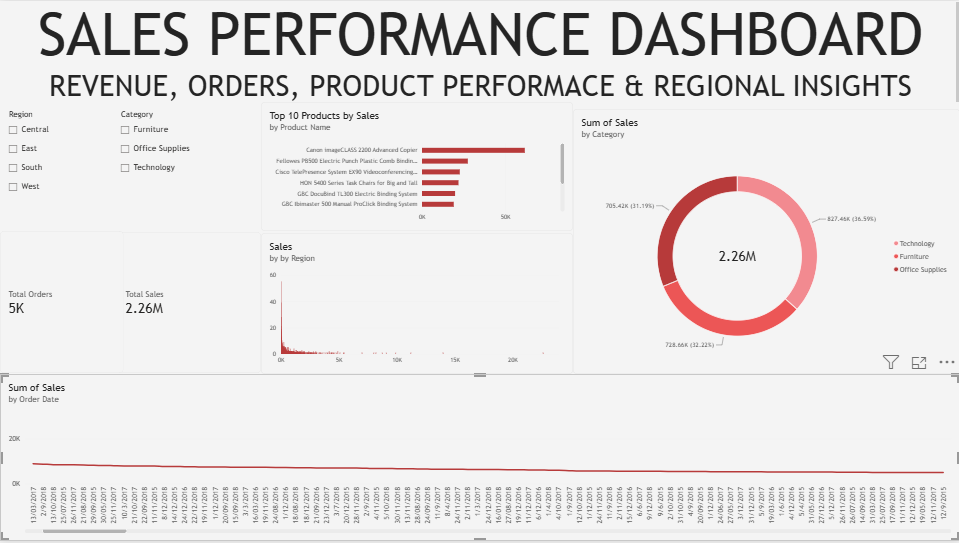

The page's visual inventory and layout, read from the dashboard file:
{"tool":"powerbi","page":{"name":"Page 1","canvas":[1920,1080],"ordinal":0},"visuals":[{"type":"cardVisual","fields":{"Data":["Sum(train.Sales)"]},"box":[233.3,462.7,288.2,282.4],"z":0},{"type":"donutChart","fields":{"Category":["train.Category"],"Y":["Sum(train.Sales)"]},"box":[1146,216,774,530],"z":1000},{"type":"lineChart","fields":{"Category":["train.Order Date"],"Y":["Sum(train.Sales)"]},"box":[0,745.1,1919.6,335.3],"z":2000},{"type":"slicer","fields":{"Values":["train.Region"]},"box":[9.8,215.7,237.3,245.1],"z":3000},{"type":"slicer","fields":{"Values":["train.Category"]},"box":[233.3,215.7,288.2,245.1],"z":4000},{"type":"cardVisual","fields":{"Data":["train.Total Orders"]},"box":[0,460.8,247.1,284.3],"z":5000},{"type":"clusteredBarChart","fields":{"Category":["train.Product Name"],"Y":["Sum(train.Sales)"]},"box":[522,202,624,258],"z":6000},{"type":"textbox","box":[9.8,0,1909.8,202],"z":6001},{"type":"columnChart","fields":{"Category":["train.Sales"],"Y":["CountNonNull(train.Region)"]},"box":[522,463,624,282],"z":6002}]}

Visuals, with their boxes in screenshot pixels (x1, y1, x2, y2), scaled from the page's 1920x1080 canvas onto the 959x543 screenshot:
cardVisual - Sum(train.Sales): rect(117, 233, 260, 375)
donutChart - train.Category x Sum(train.Sales): rect(572, 109, 958, 375)
lineChart - train.Order Date x Sum(train.Sales): rect(0, 375, 958, 542)
slicer - train.Region: rect(5, 108, 123, 232)
slicer - train.Category: rect(117, 108, 260, 232)
cardVisual - train.Total Orders: rect(0, 232, 123, 375)
clusteredBarChart - train.Product Name x Sum(train.Sales): rect(261, 102, 572, 231)
textbox: rect(5, 0, 958, 102)
columnChart - train.Sales x CountNonNull(train.Region): rect(261, 233, 572, 375)
